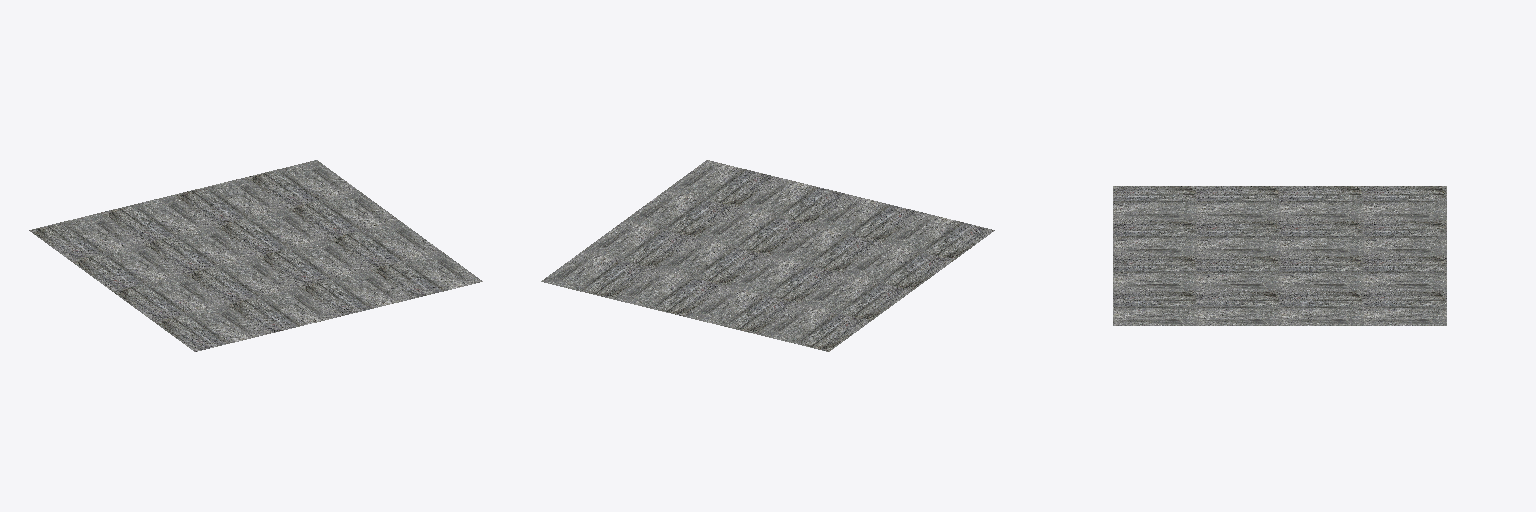
3 views of the same model, side by side, from view 1: azimuth 30°, elevation 25°; view 2: azimuth 150°, elevation 25°; view 3: azimuth 270°, elevation 25° (orthographic).
Parts seen in each view (by area): view 1: Floor; view 2: Floor; view 3: Floor.
Boxes of the visible parts, box(x1,y1,x2,y2) form: Floor: box(29, 160, 482, 351); Floor: box(541, 160, 994, 351); Floor: box(1113, 186, 1446, 325).
Bounding box in the file's own units: 40 × 0 × 40.
1 materials, 1 textured.